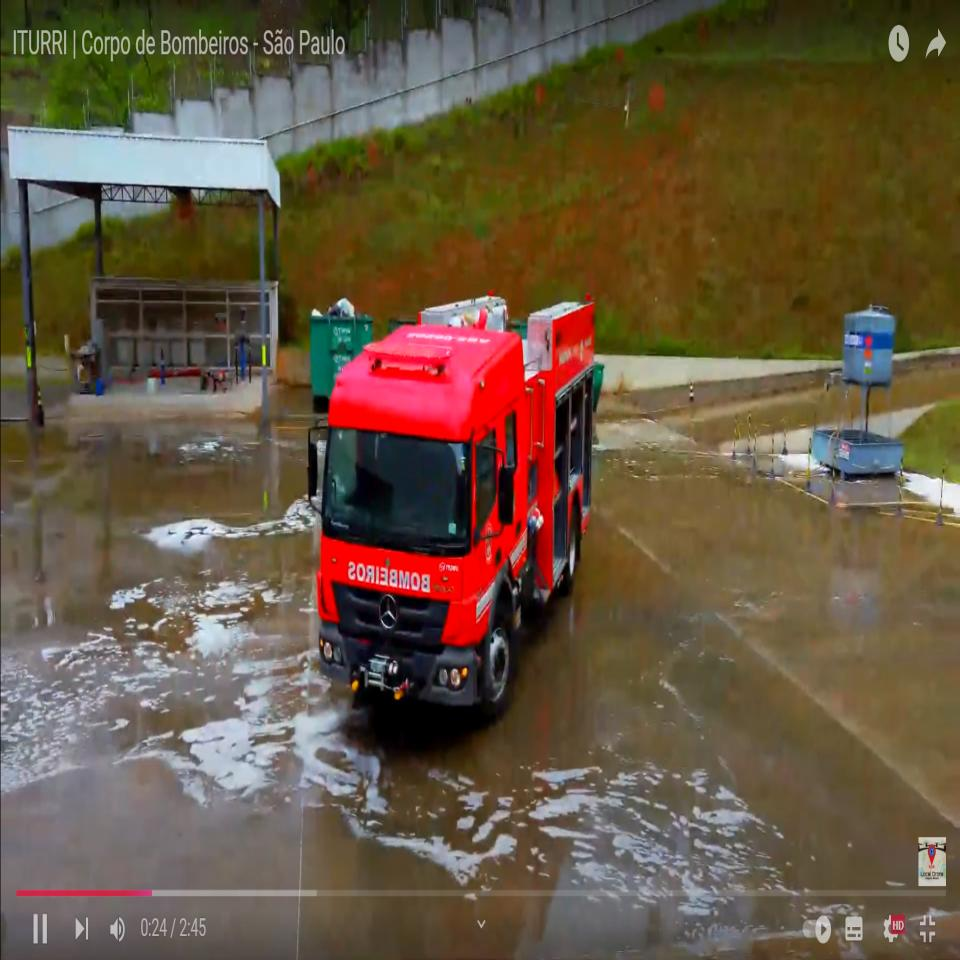viatura: (308, 294, 600, 716)
